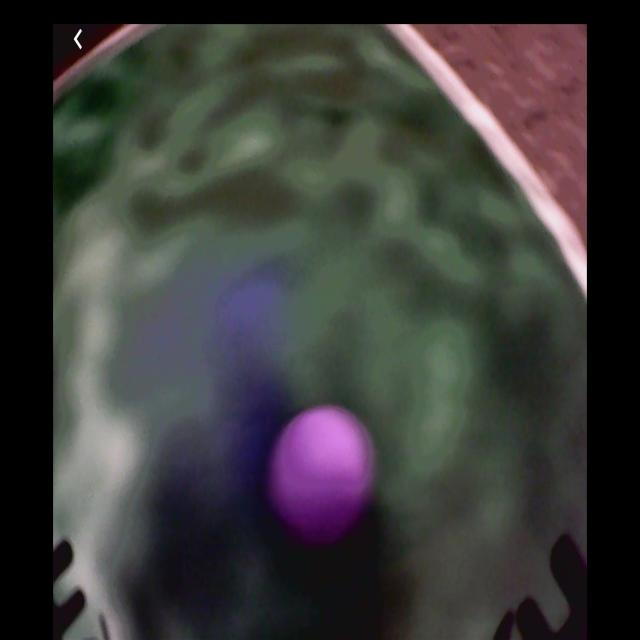ball: (272, 401, 379, 542)
